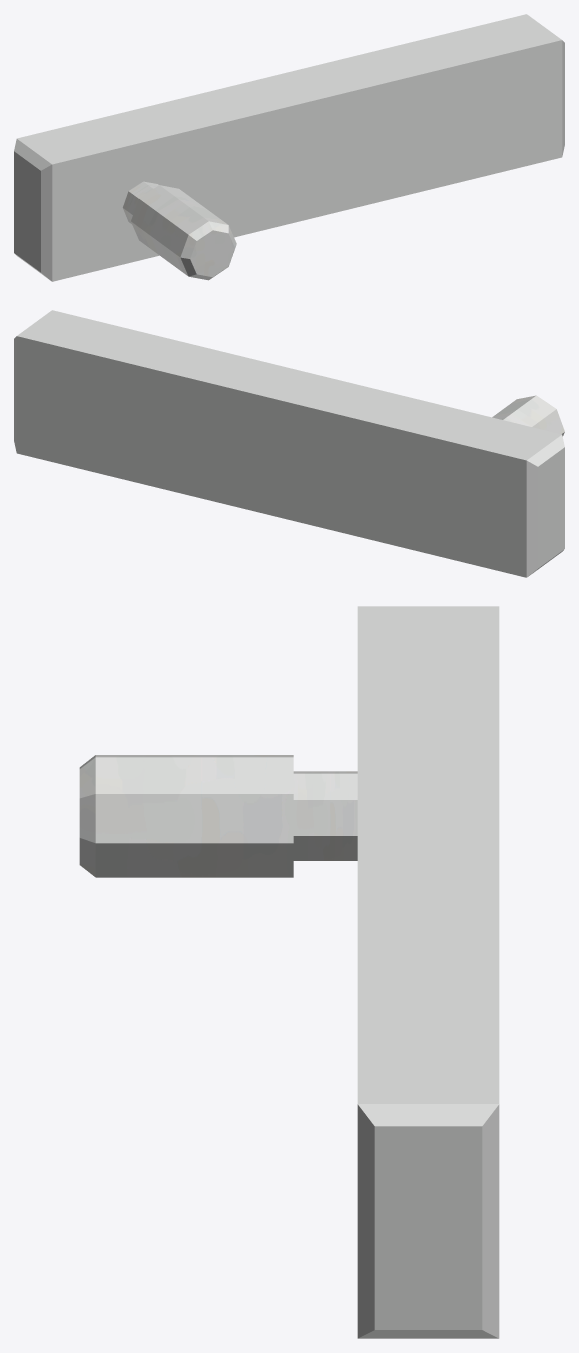
File: Obj_DoorLockBathroom_Bone.fbx
3 views of the same model, one above another, from view 1: azimuth 30°, elevation 25°; view 2: azimuth 150°, elevation 25°; view 3: azimuth 270°, elevation 25° (orthographic). The views are drawn at different scales.
Parts seen in each view (by area): view 1: Lock; view 2: Lock; view 3: Lock.
Part boxes in pixels (box(x1,y1,x2,y2)): Lock: box(14, 14, 564, 281); Lock: box(14, 310, 564, 577); Lock: box(79, 606, 499, 1338).
Bounding box in the file's own units: 0.1271 × 0.0272 × 0.0441.
1 material, 1 textured.
